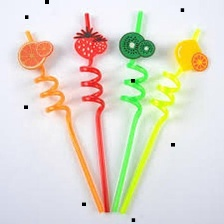drinking_straw: (115, 24, 213, 216), (9, 26, 107, 214), (111, 7, 158, 215), (68, 6, 113, 214)
